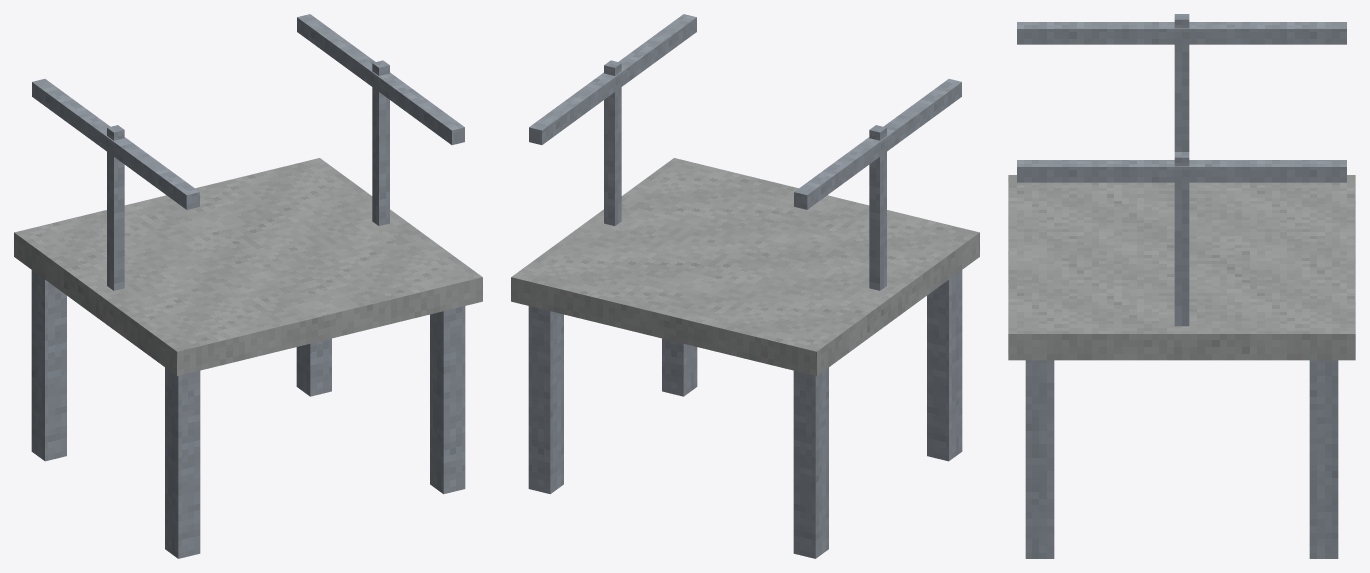
Rendered from level_blockout_stair_landing_module.glb.
3 renders of one model, left to right at view 1: azimuth 30°, elevation 25°; view 2: azimuth 150°, elevation 25°; view 3: azimuth 270°, elevation 25°, orthographic. The views are drawn at different scales.
Visible parts, largest first — view 1: level_blockout_stair_landing_module; view 2: level_blockout_stair_landing_module; view 3: level_blockout_stair_landing_module.
Part boxes in pixels (left/top/right/bottom): level_blockout_stair_landing_module: left=14, top=14, right=482, bottom=558; level_blockout_stair_landing_module: left=511, top=14, right=979, bottom=558; level_blockout_stair_landing_module: left=1008, top=14, right=1355, bottom=558.
Size of the model in its own units: 1.96 by 2.29 by 1.81.
2 materials, 2 textured.
